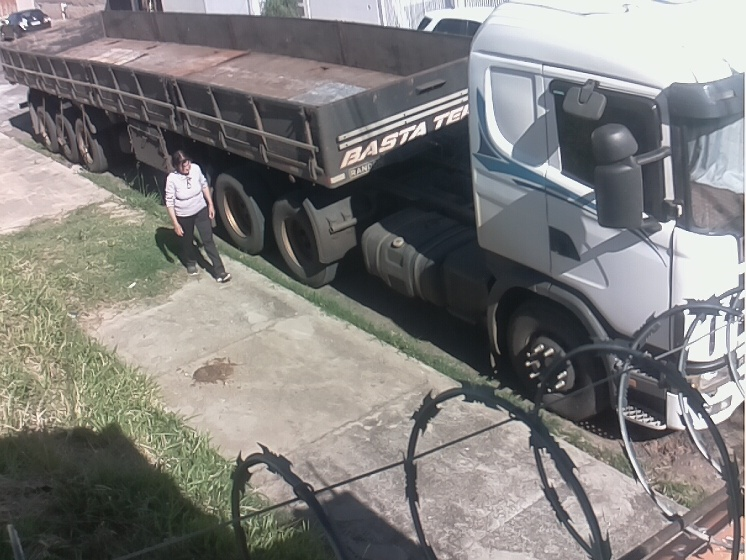person: (163, 149, 232, 285)
